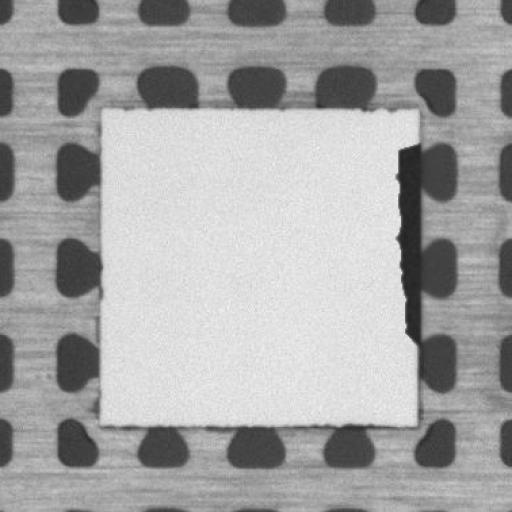DIE_BROKEN: (392, 136, 422, 350)
